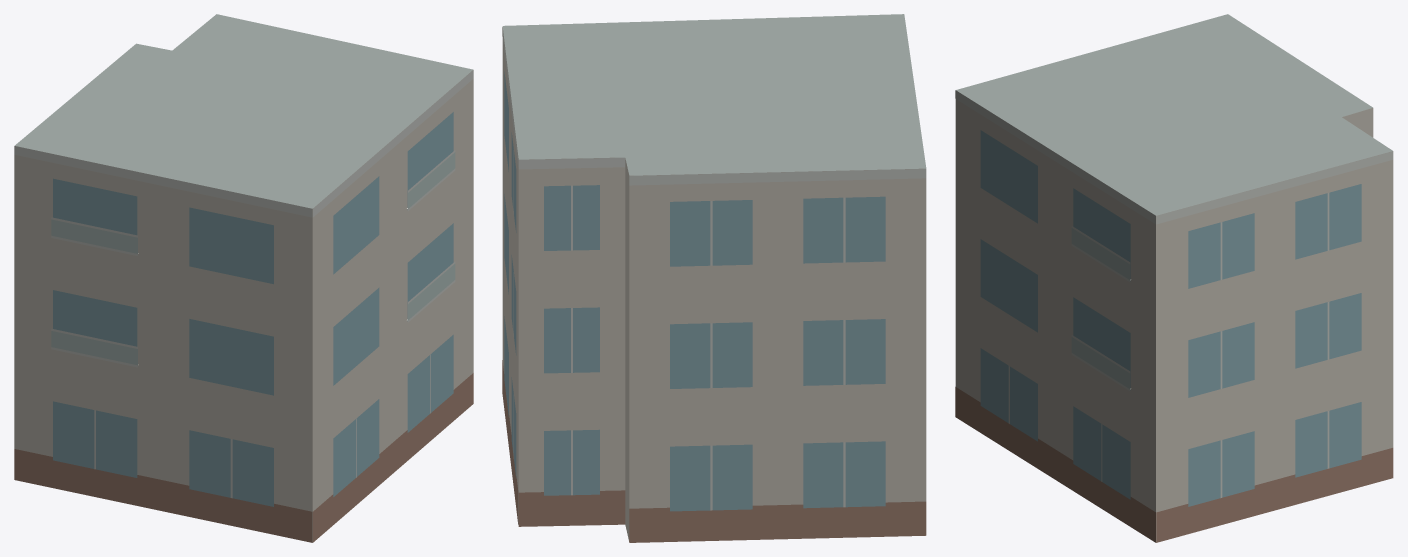
Rendered from survey-upis-32790385.glb.
The picture shows the model from 3 angles, left to right: view 1: azimuth 30°, elevation 25°; view 2: azimuth 150°, elevation 25°; view 3: azimuth 270°, elevation 25°; orthographic projection. The views are drawn at different scales.
Visible parts, largest first — view 1: survey-upis-32790385.tmp; view 2: survey-upis-32790385.tmp; view 3: survey-upis-32790385.tmp.
Boxes of the visible parts, <box> form: survey-upis-32790385.tmp: <box>14,14,473,542</box>; survey-upis-32790385.tmp: <box>502,14,926,542</box>; survey-upis-32790385.tmp: <box>955,14,1393,542</box>.
Bounding box in the file's own units: 12.12 × 9.15 × 11.11.
